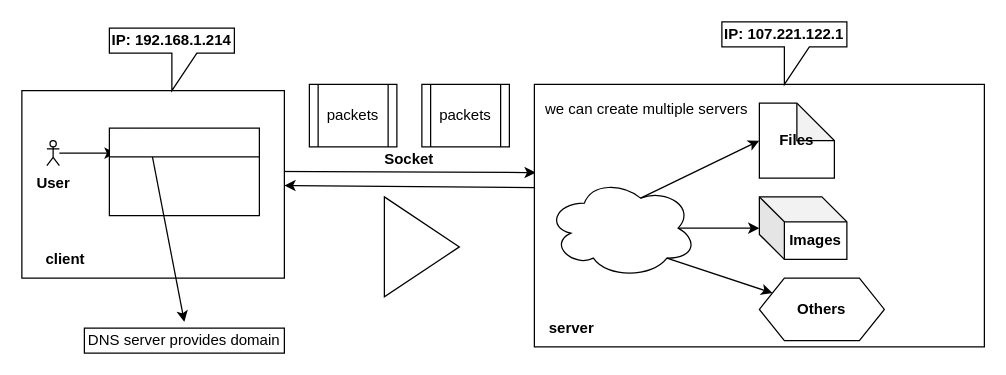
Some shapes in this 1006 by 375 pixel diagram are drawn without their labels. Here are the shapes that lost their labels. From the top down, the box of each, then its label:
(108, 127, 259, 216): https://www.abc.com
(383, 196, 459, 297): TCP/IP
(546, 177, 697, 278): APP
